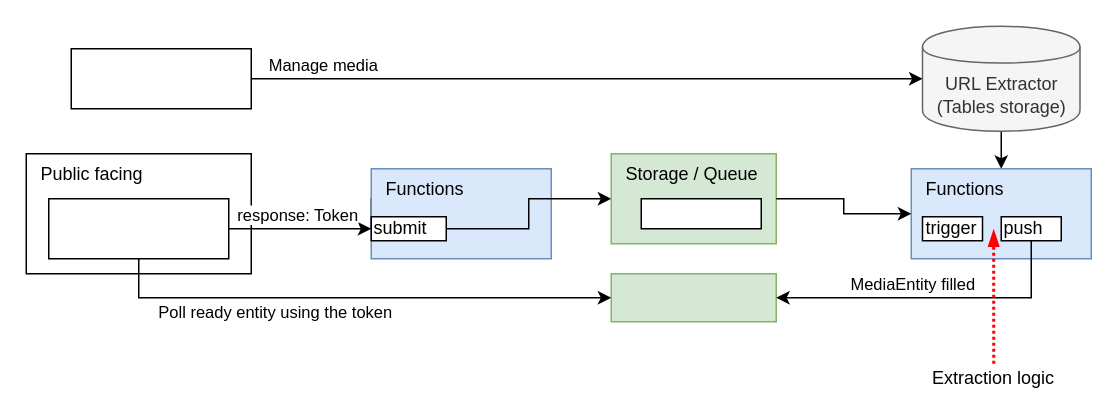
This 1118x420 diagram has some shape labels left out. The shapes that lost their labels are listed below. From the top down, each one's centre as x and y in pixels, then its label:
(x=160, y=78): Administrator UI ???
(x=138, y=228): Website
(x=700, y=213): URL request
(x=693, y=297): Storage / Tables
